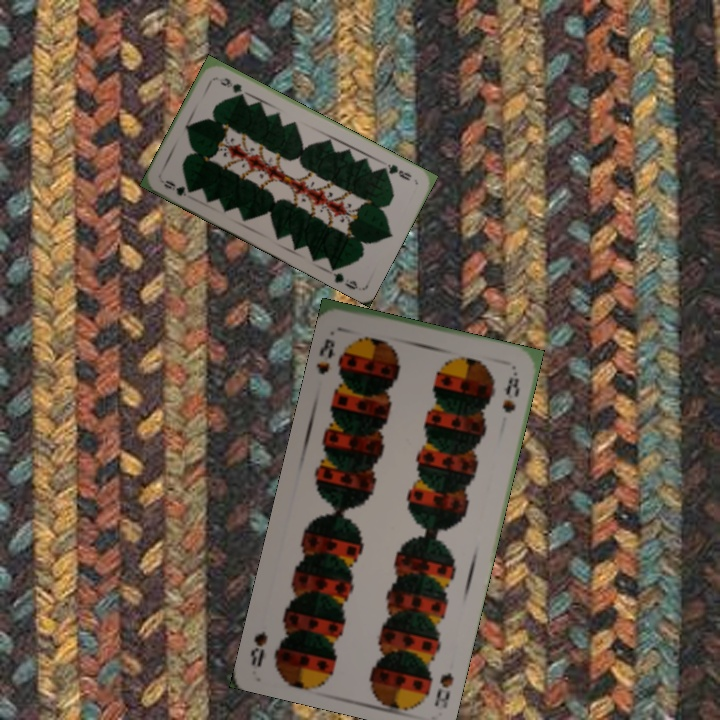G9: (378, 160, 415, 184), (159, 176, 196, 199)
S8: (430, 669, 457, 711), (313, 334, 339, 377)
